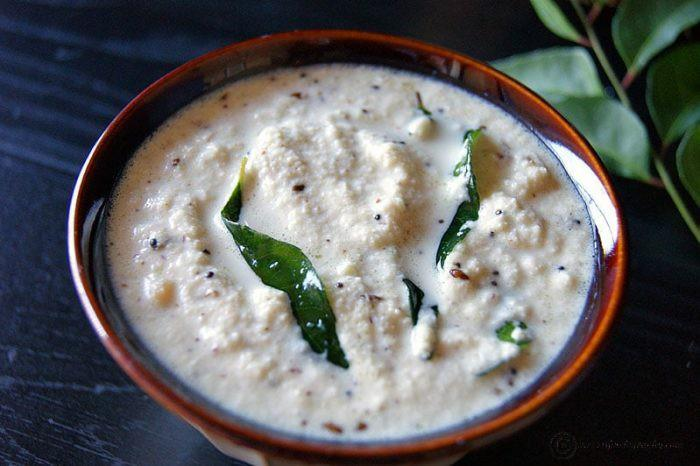CoconutChutney: (108, 63, 594, 437)
